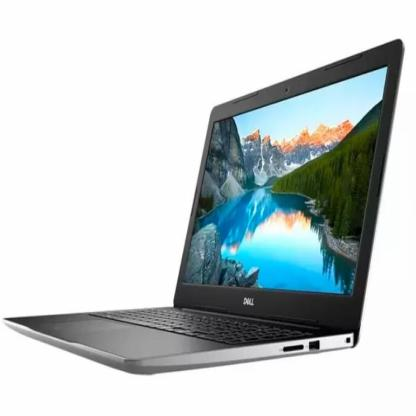NOTEBOOK: (13, 40, 416, 416)
